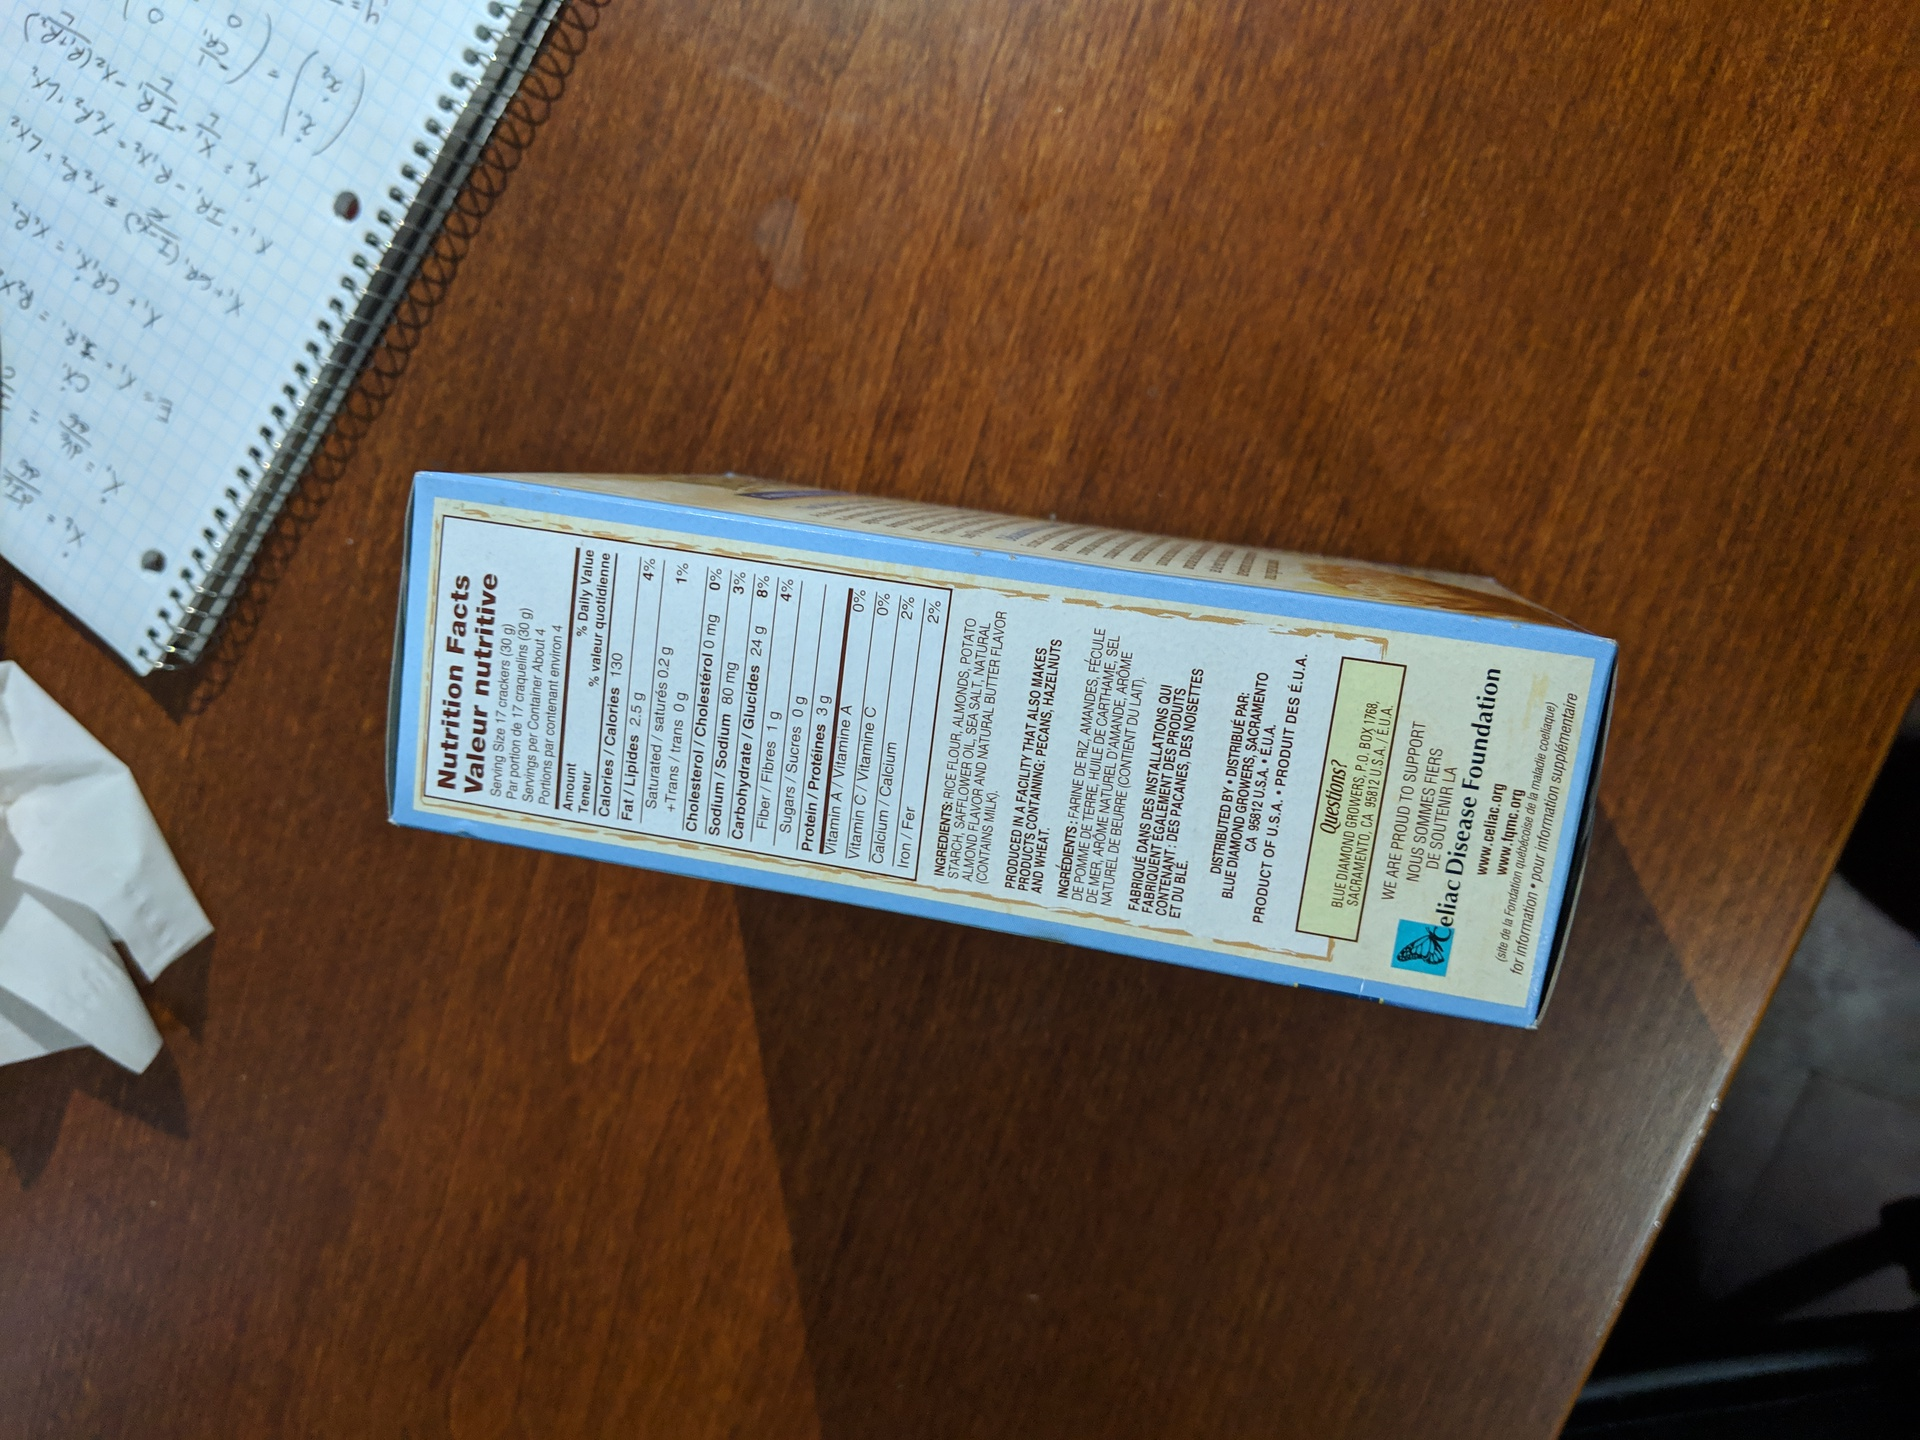blue_diamond_nut_thins_almond_seasalt: (419, 473, 1609, 1000)
